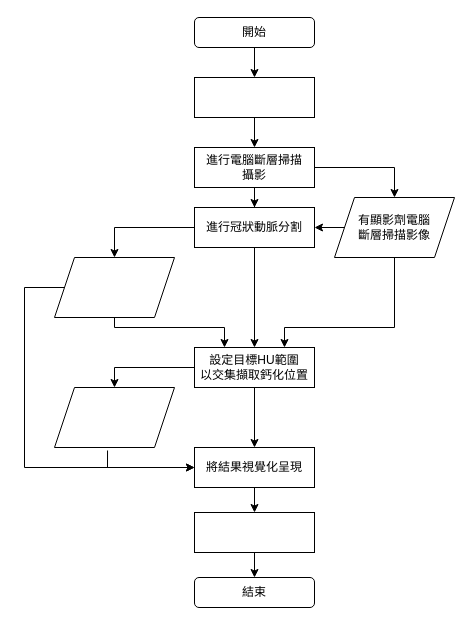
Image size: 472x625. Some labels were removed from this diagram. The shapes that lost their labels are listed below. From the top down, each one's centre as x and y in pixels, then its label:
At [254,97]: "注射顯影劑".
At [114,287]: "冠狀動脈結構".
At [114,417]: "鈣化位置".
At [254,532]: "進行診斷".
